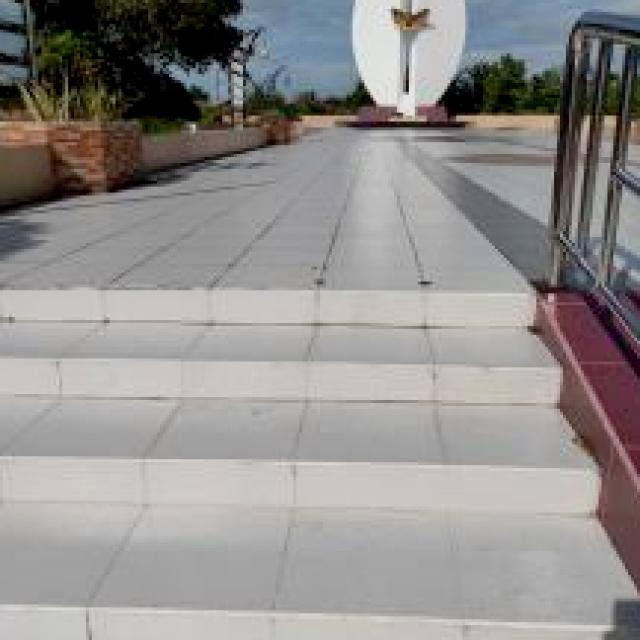upstair: (1, 273, 640, 640)
